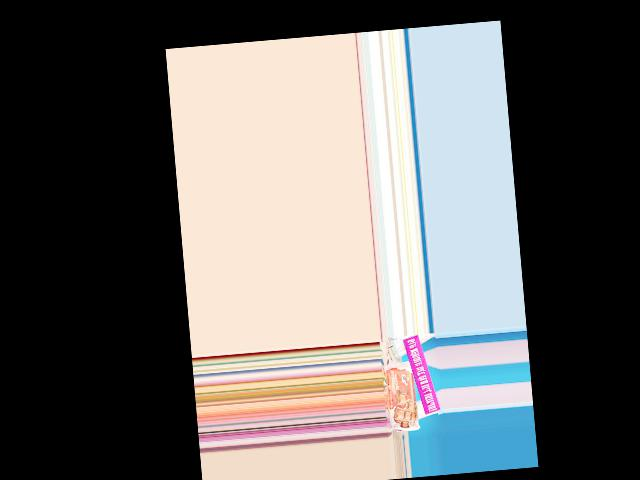chocolate: (383, 359, 421, 434)
